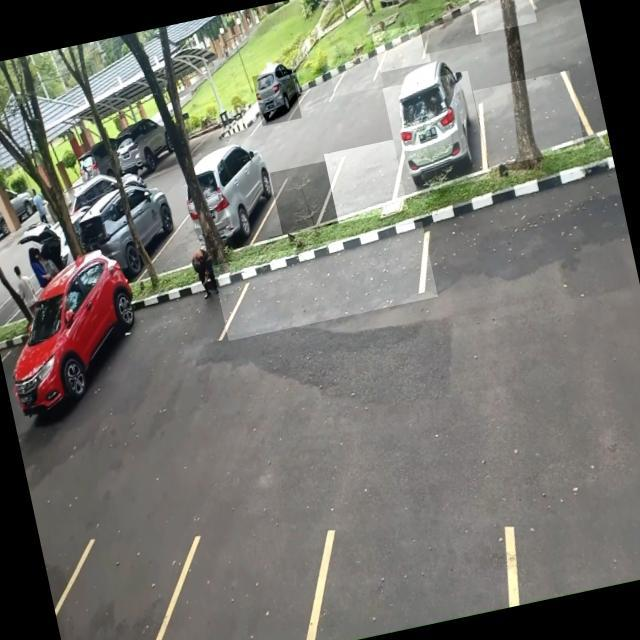empty: (212, 220, 438, 340), (472, 70, 585, 168), (323, 139, 408, 223), (256, 160, 340, 238), (416, 0, 481, 53), (371, 22, 431, 72), (328, 50, 384, 96), (466, 0, 536, 34), (294, 70, 339, 118)
occupied: (382, 70, 490, 196), (179, 139, 282, 252), (252, 66, 306, 126)
